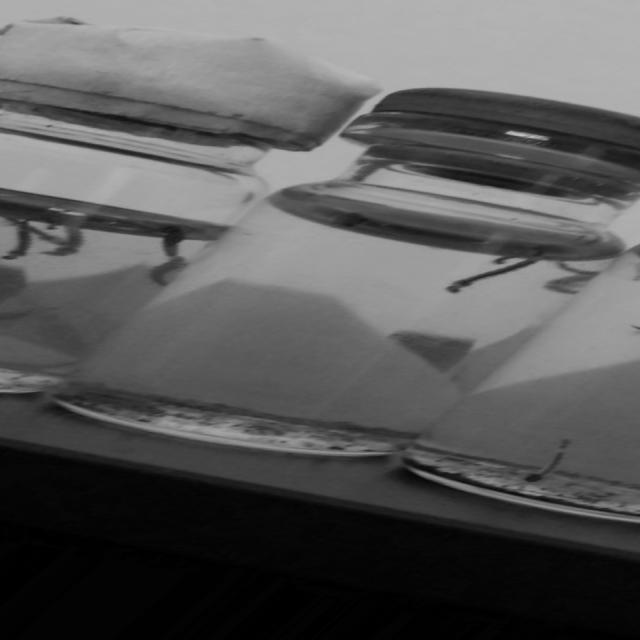larvas: (443, 251, 545, 300), (3, 210, 67, 254), (528, 431, 568, 481), (154, 252, 189, 289), (50, 221, 84, 258), (554, 262, 587, 294), (13, 218, 31, 260), (492, 244, 528, 264), (162, 232, 182, 253)
